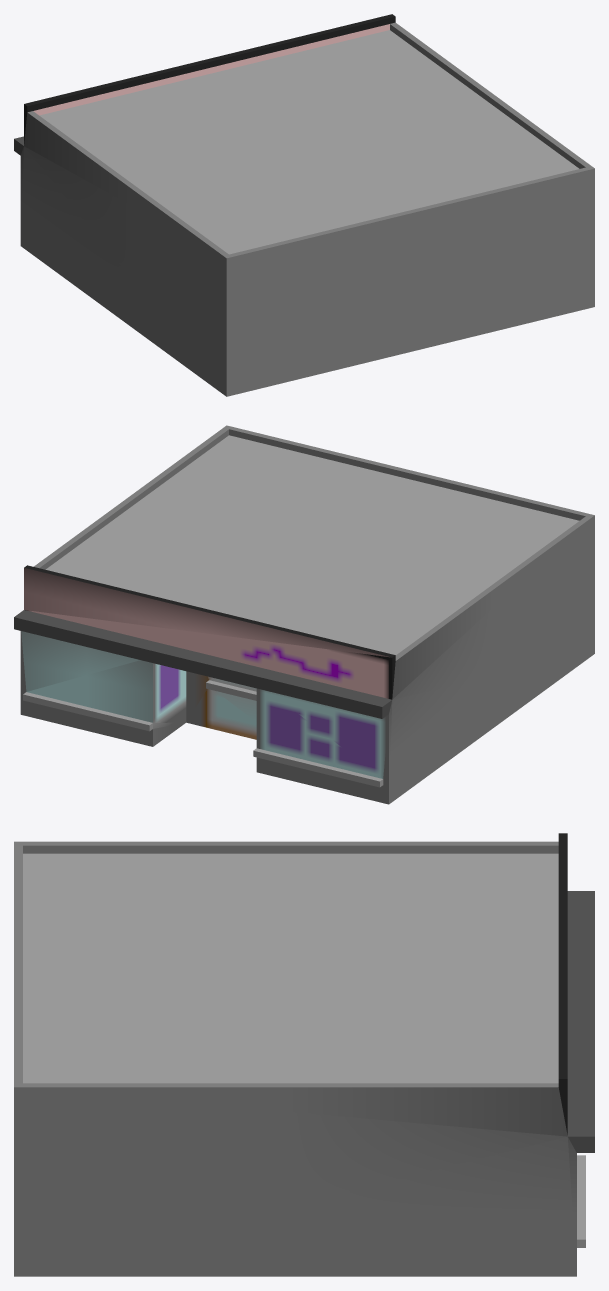
The model's file is obj_store03.fbx.
The picture shows the model from 3 angles, top to bottom: view 1: azimuth 30°, elevation 25°; view 2: azimuth 150°, elevation 25°; view 3: azimuth 270°, elevation 25°; orthographic projection. The views are drawn at different scales.
Parts seen in each view (by area): view 1: obj_store03; view 2: obj_store03; view 3: obj_store03.
Part boxes in pixels (x1,y1,x2,y2): obj_store03: (14, 14, 594, 396); obj_store03: (14, 425, 594, 804); obj_store03: (14, 833, 594, 1276).
Bounding box in the file's own units: 6.4 × 6.4 × 2.4.
Materials: 1 (1 with a texture image).
